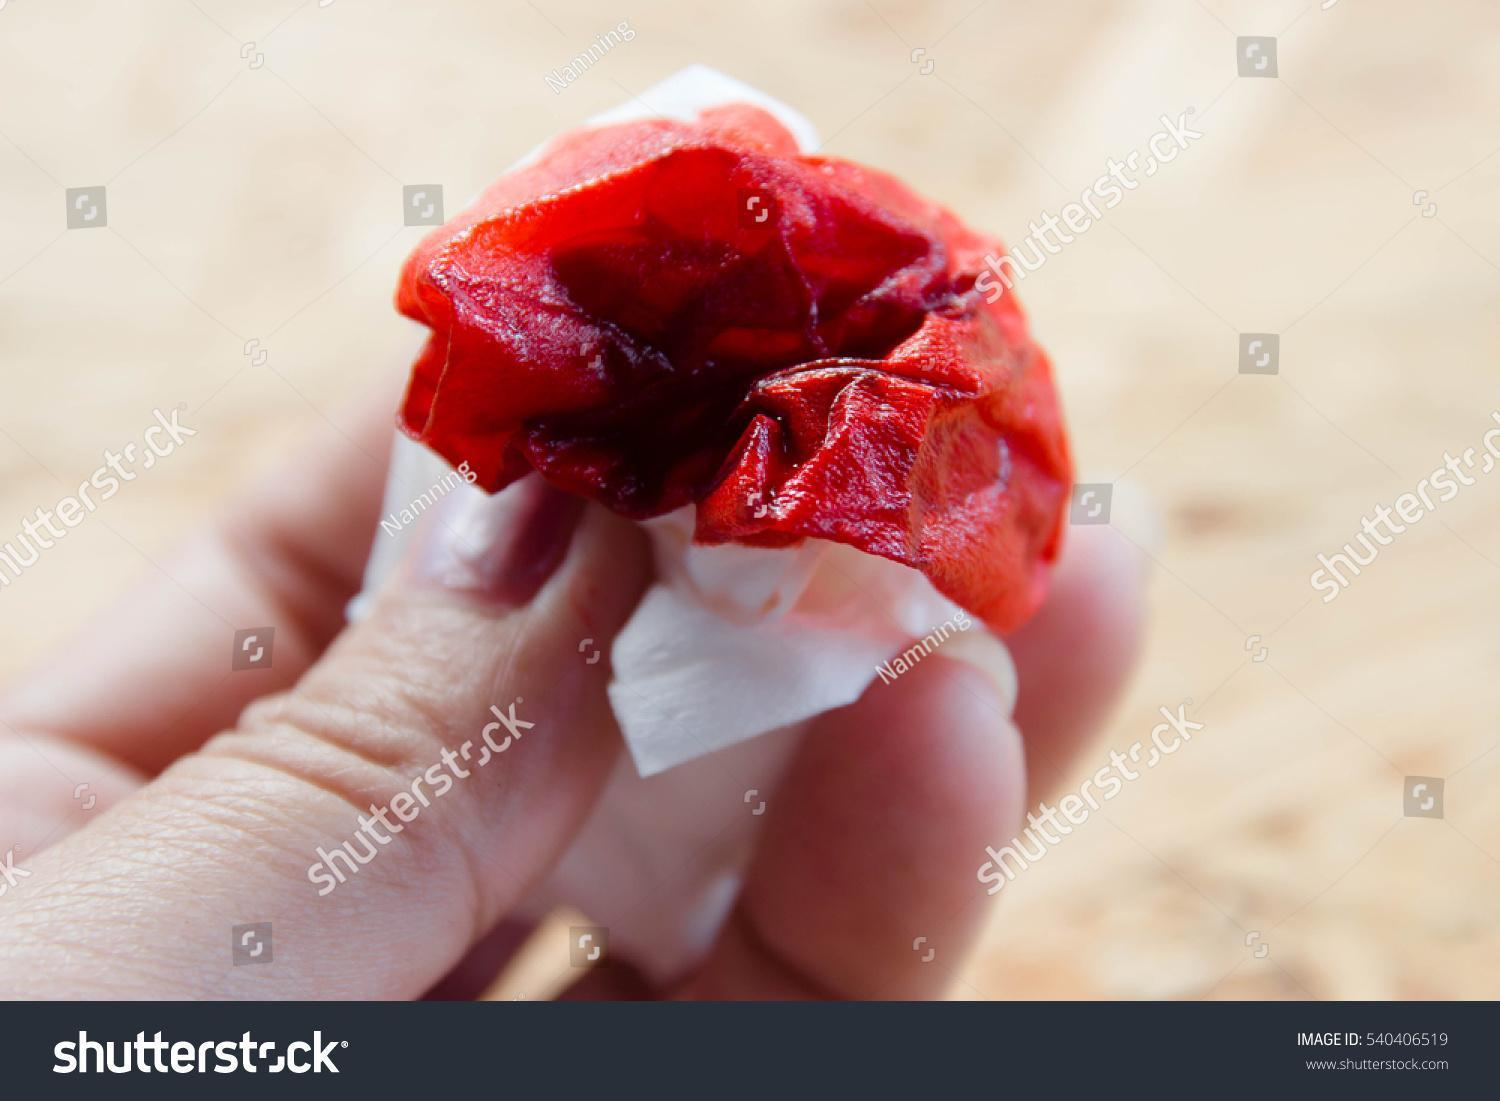Fire: (394, 101, 1074, 633)
